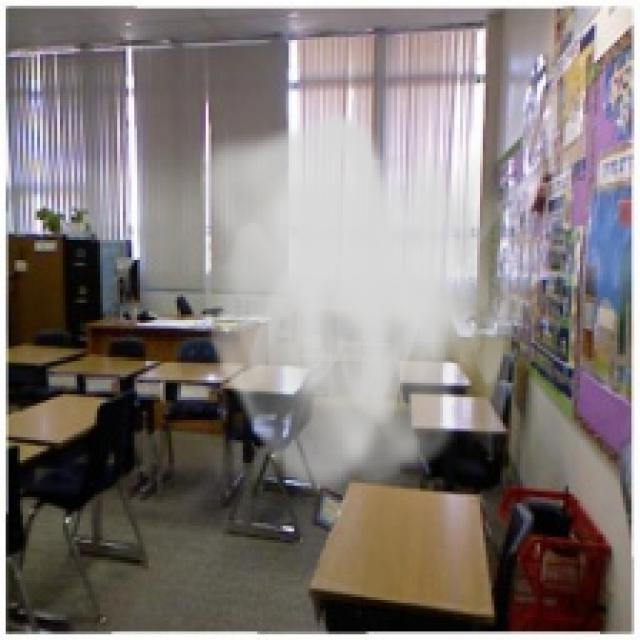smoke: (188, 108, 552, 506)
